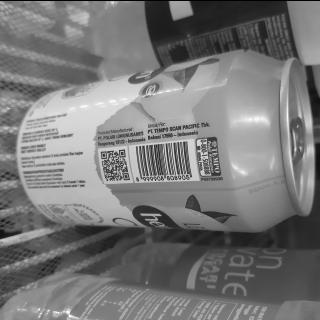alumunium_can: (5, 46, 320, 238)
